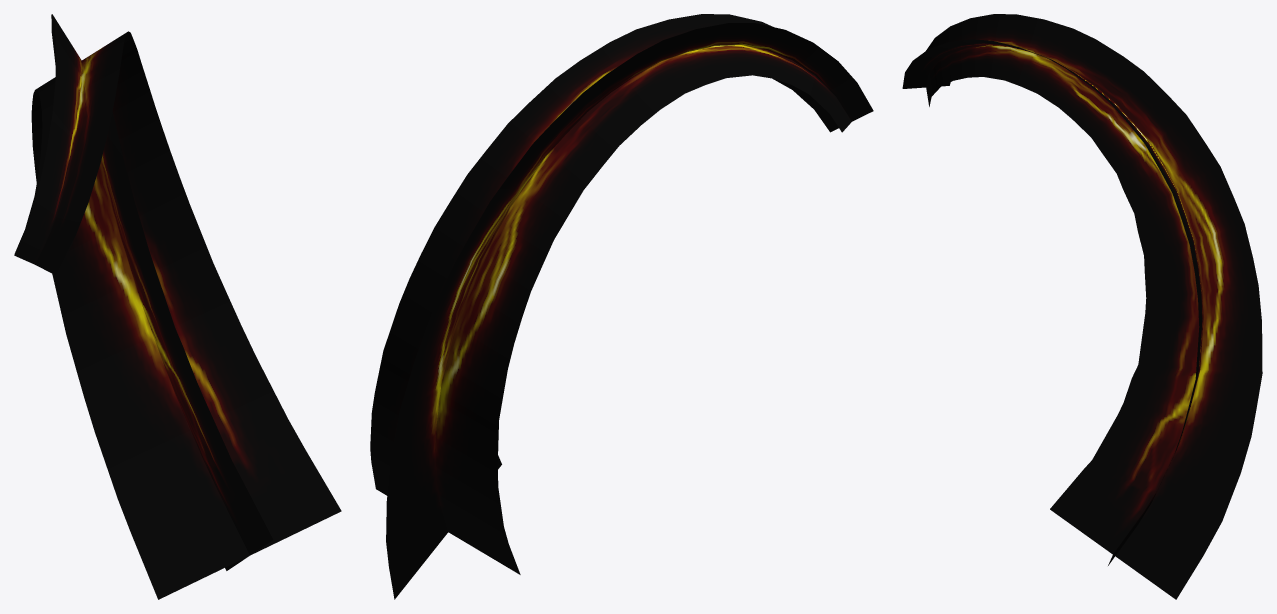
File: duel_gunskill3_helix.FBX
3 renders of one model, left to right at view 1: azimuth 30°, elevation 25°; view 2: azimuth 150°, elevation 25°; view 3: azimuth 270°, elevation 25°, orthographic. The views are drawn at different scales.
Visible parts, largest first — view 1: Plane005; view 2: Plane005; view 3: Plane005.
Boxes of the visible parts, x1,y1,x2,y2 form: Plane005: (14,14,341,599); Plane005: (370,14,873,599); Plane005: (902,14,1262,599).
Size of the model in its own units: 47.18 by 65.78 by 44.09.
